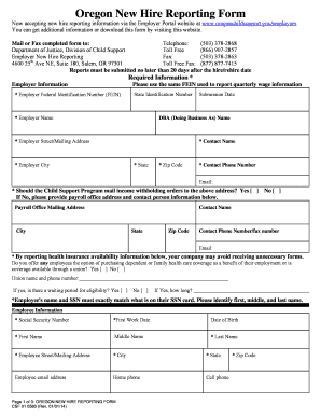checkbox: (138, 287, 151, 296), (99, 265, 110, 274), (116, 266, 127, 275), (120, 287, 128, 295)
textbox: (9, 130, 198, 162), (8, 198, 198, 227), (151, 108, 314, 138), (8, 154, 135, 190), (8, 220, 131, 256), (8, 108, 160, 137), (193, 130, 313, 163), (9, 86, 136, 115), (191, 197, 313, 227), (198, 365, 313, 396), (193, 85, 314, 114), (191, 219, 314, 245), (107, 345, 206, 377), (203, 325, 314, 353), (191, 154, 314, 179), (105, 325, 210, 353), (9, 347, 114, 375), (9, 368, 113, 396), (109, 368, 206, 397), (106, 309, 210, 336), (227, 344, 314, 376), (203, 309, 314, 333), (8, 310, 114, 334), (8, 328, 114, 352), (191, 171, 314, 189), (193, 238, 314, 256), (127, 84, 197, 114), (151, 154, 199, 191), (121, 220, 169, 255), (161, 219, 202, 255), (126, 153, 160, 189), (199, 345, 232, 376)
textline: (79, 271, 232, 286), (194, 282, 311, 295)
